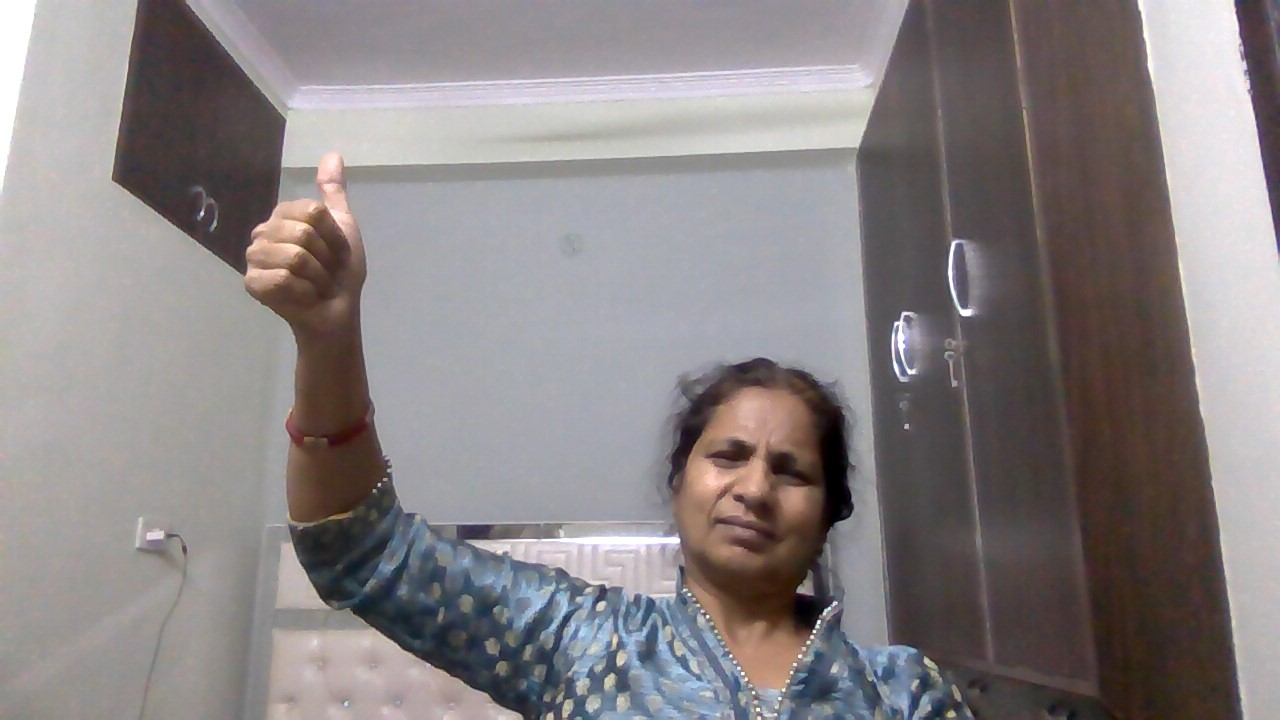Save: (233, 142, 394, 346)
